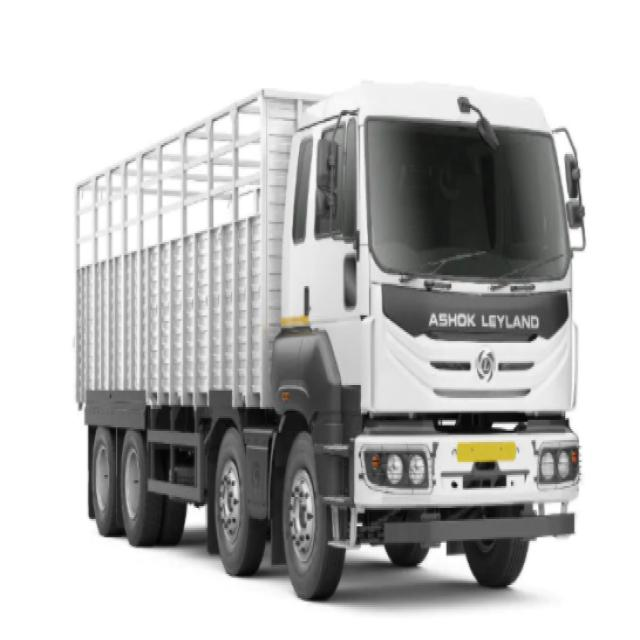truck: (76, 84, 585, 599)
